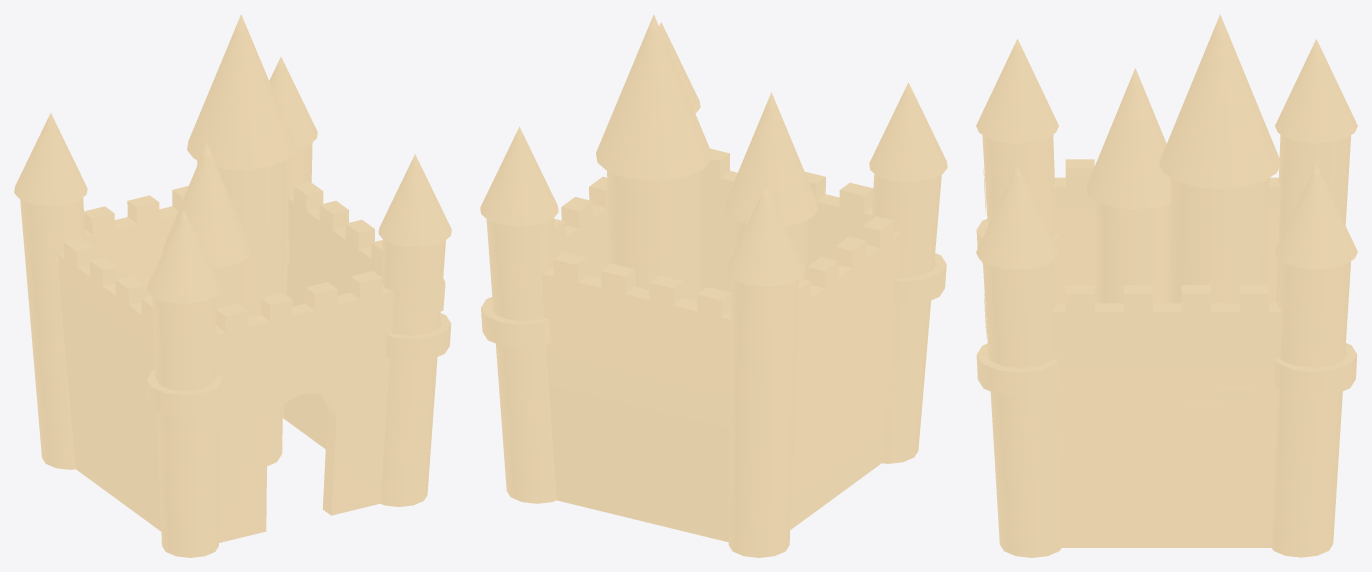
The model's file is pigicastle.fbx.
3 renders of one model, left to right at view 1: azimuth 30°, elevation 25°; view 2: azimuth 150°, elevation 25°; view 3: azimuth 270°, elevation 25°, orthographic. The views are drawn at different scales.
Parts seen in each view (by area): view 1: castle; view 2: castle; view 3: castle.
Part boxes in pixels (box(x1,y1,x2,y2)): castle: box(14, 14, 451, 557); castle: box(480, 14, 947, 557); castle: box(976, 14, 1357, 557).
Size of the model in its own units: 287 by 406 by 287.
